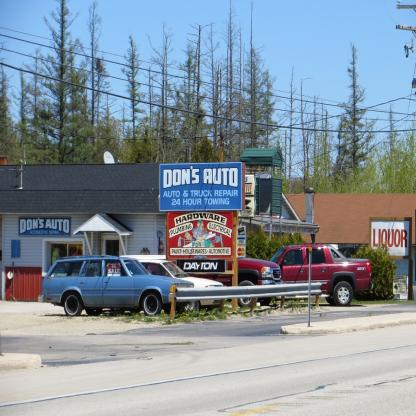Car: (42, 256, 195, 318), (109, 256, 226, 308), (171, 260, 286, 309)
